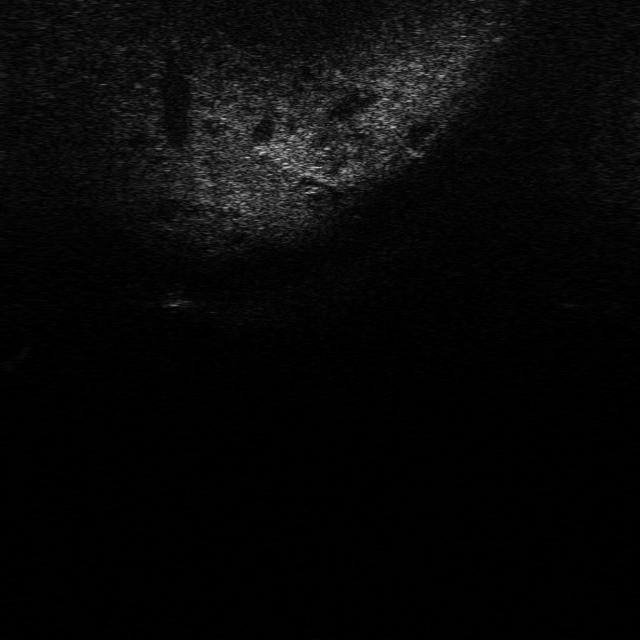cube: (156, 285, 194, 311)
